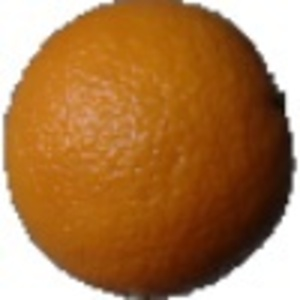laranja: (4, 5, 298, 298)
